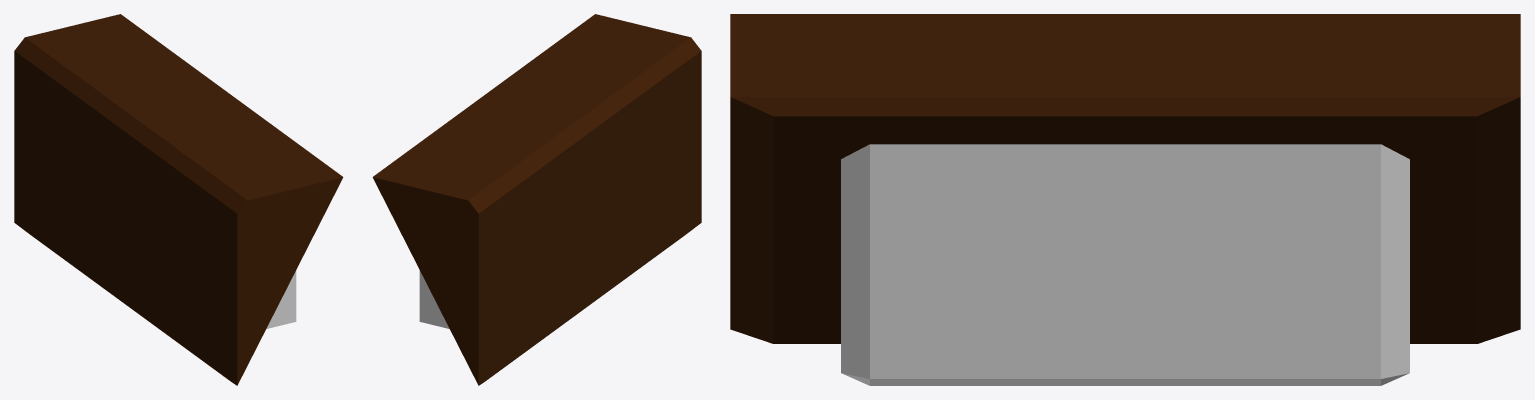
File: industrial light - default.fbx
3 views of the same model, side by side, from view 1: azimuth 30°, elevation 25°; view 2: azimuth 150°, elevation 25°; view 3: azimuth 270°, elevation 25° (orthographic). The views are drawn at different scales.
Parts seen in each view (by area): view 1: Cube, Cube.001; view 2: Cube, Cube.001; view 3: Cube, Cube.001.
Part boxes in pixels (<box>): Cube: <box>14,14,343,385</box>; Cube.001: <box>266,270,296,328</box>; Cube: <box>372,14,701,385</box>; Cube.001: <box>419,270,449,328</box>; Cube: <box>730,14,1520,343</box>; Cube.001: <box>841,144,1409,385</box>.
Size of the model in its own units: 22.03 by 36.2 by 77.53.
